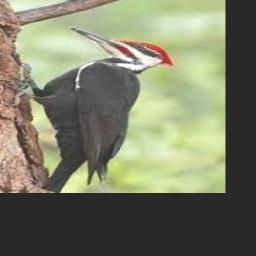Woodpecker: (1, 27, 174, 192)
